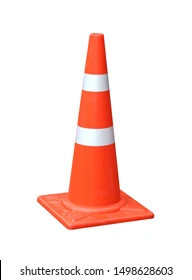cones: (36, 32, 158, 230)
